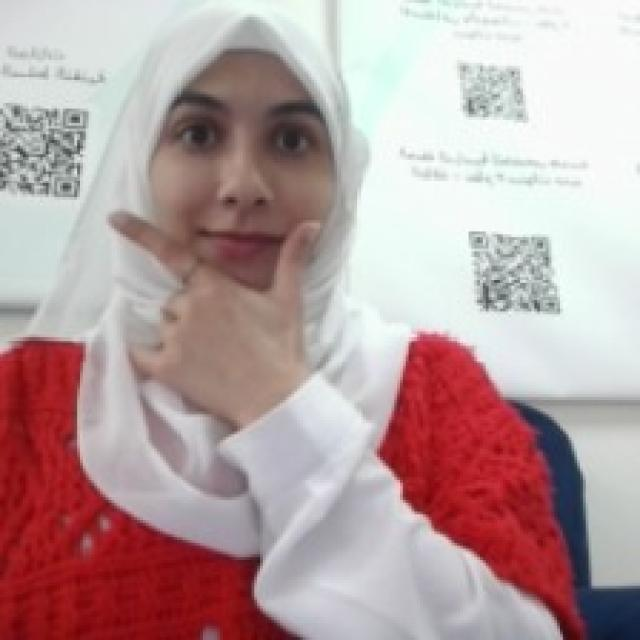smile: (100, 200, 326, 383)
